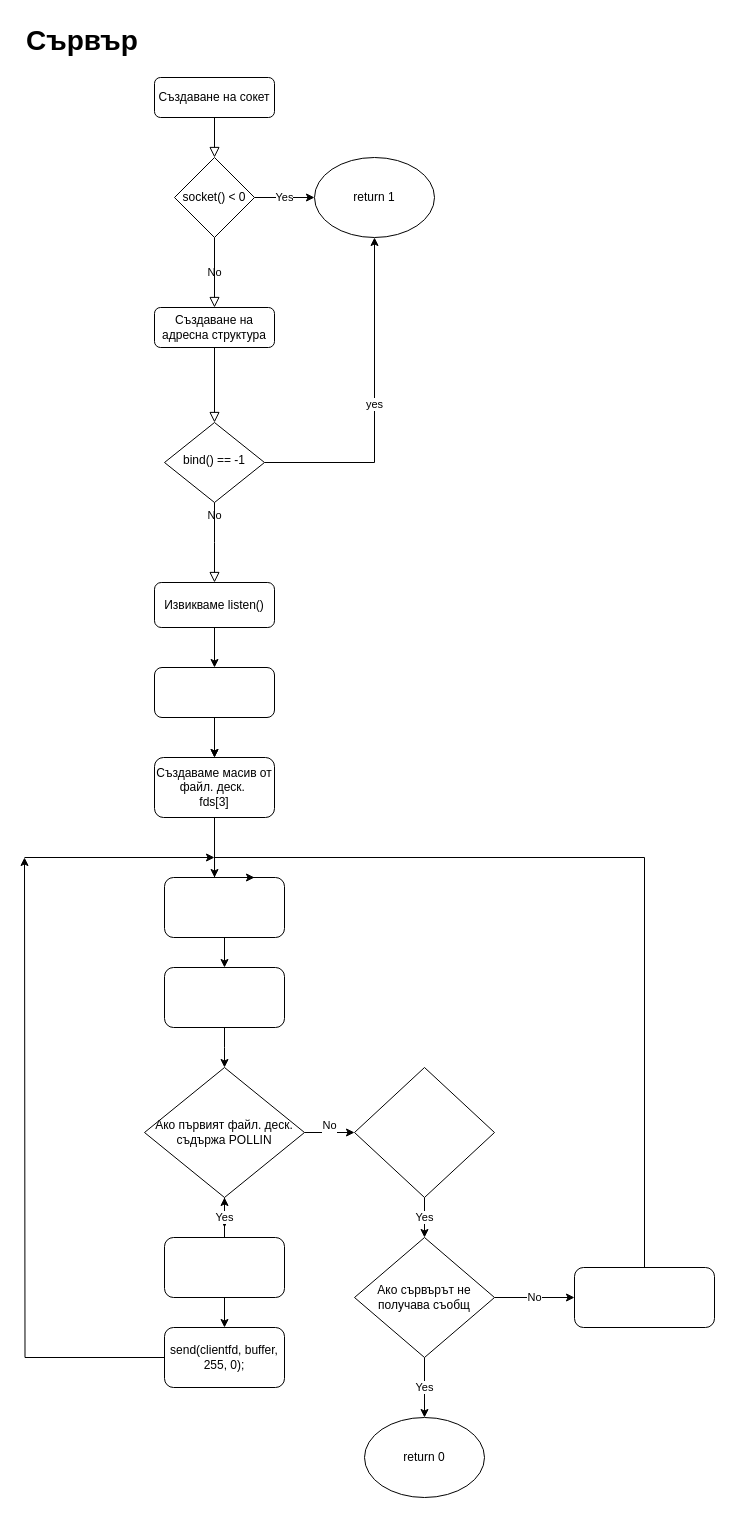
Some shapes in this 732 by 1515 pixel diagram are drawn without their labels. Each missing label, with the centre of its shape:
char buffer[256]: (x=224, y=907)
int clientfd = accept: (x=214, y=692)
poll(fds, 2, 50000);: (x=224, y=997)
printf("%s\n", buffer);: (x=644, y=1297)
read(0, buffer, 255);: (x=224, y=1267)
Ако втория ...: (x=424, y=1132)
